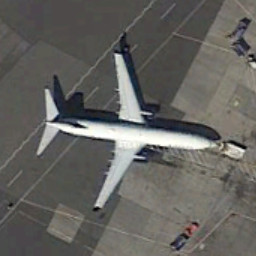Airplane: (28, 45, 230, 220)
